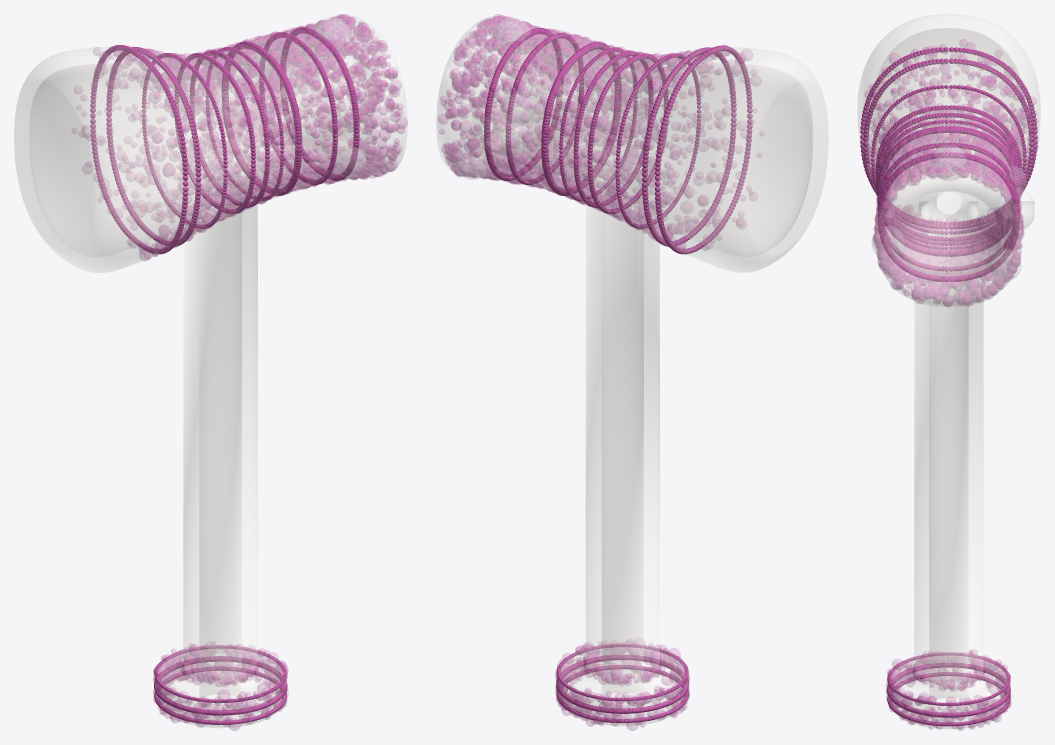
Rendered from hammer_clear_gold.glb.
3 views of the same model, side by side, from view 1: azimuth 30°, elevation 25°; view 2: azimuth 150°, elevation 25°; view 3: azimuth 270°, elevation 25° (orthographic). The views are drawn at different scales.
Parts seen in each view (by area): view 1: body, frit, lines, marbles; view 2: body, frit, lines, marbles; view 3: body, frit, lines, marbles.
Part boxes in pixels (x1=…): body: x1=14, y1=16, x2=407, y2=727; frit: x1=81, y1=14, x2=407, y2=730; lines: x1=90, y1=27, x2=359, y2=724; marbles: x1=257, y1=17, x2=365, y2=176; body: x1=436, y1=16, x2=828, y2=726; frit: x1=438, y1=14, x2=756, y2=730; lines: x1=484, y1=27, x2=752, y2=723; marbles: x1=455, y1=17, x2=533, y2=179; body: x1=857, y1=14, x2=1040, y2=728; frit: x1=860, y1=39, x2=1038, y2=730; lines: x1=860, y1=47, x2=1037, y2=726; marbles: x1=871, y1=144, x2=1026, y2=279.
Size of the model in its own units: 0.0682 by 0.1405 by 0.0371.
